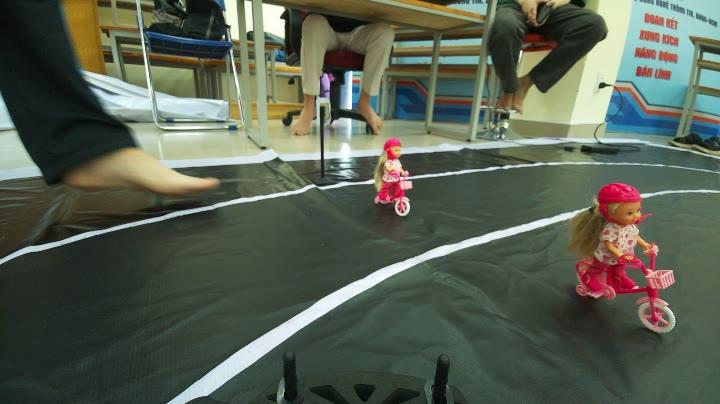pedestrian: (560, 178, 684, 336), (366, 142, 424, 216)
